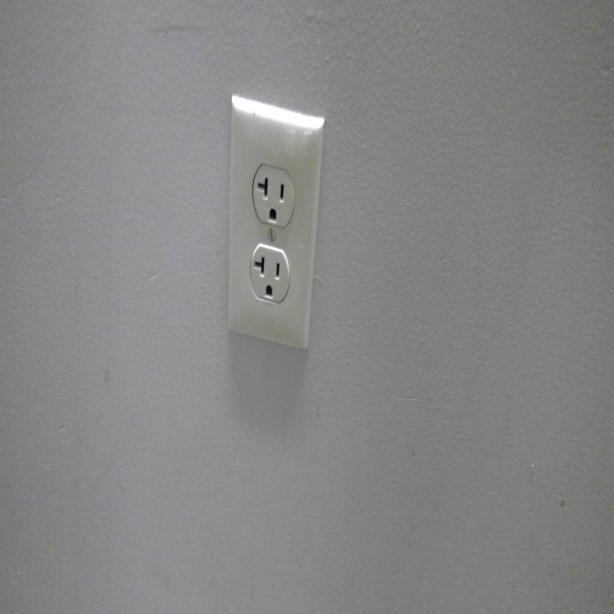typeb: (252, 160, 294, 229), (249, 243, 289, 302)
